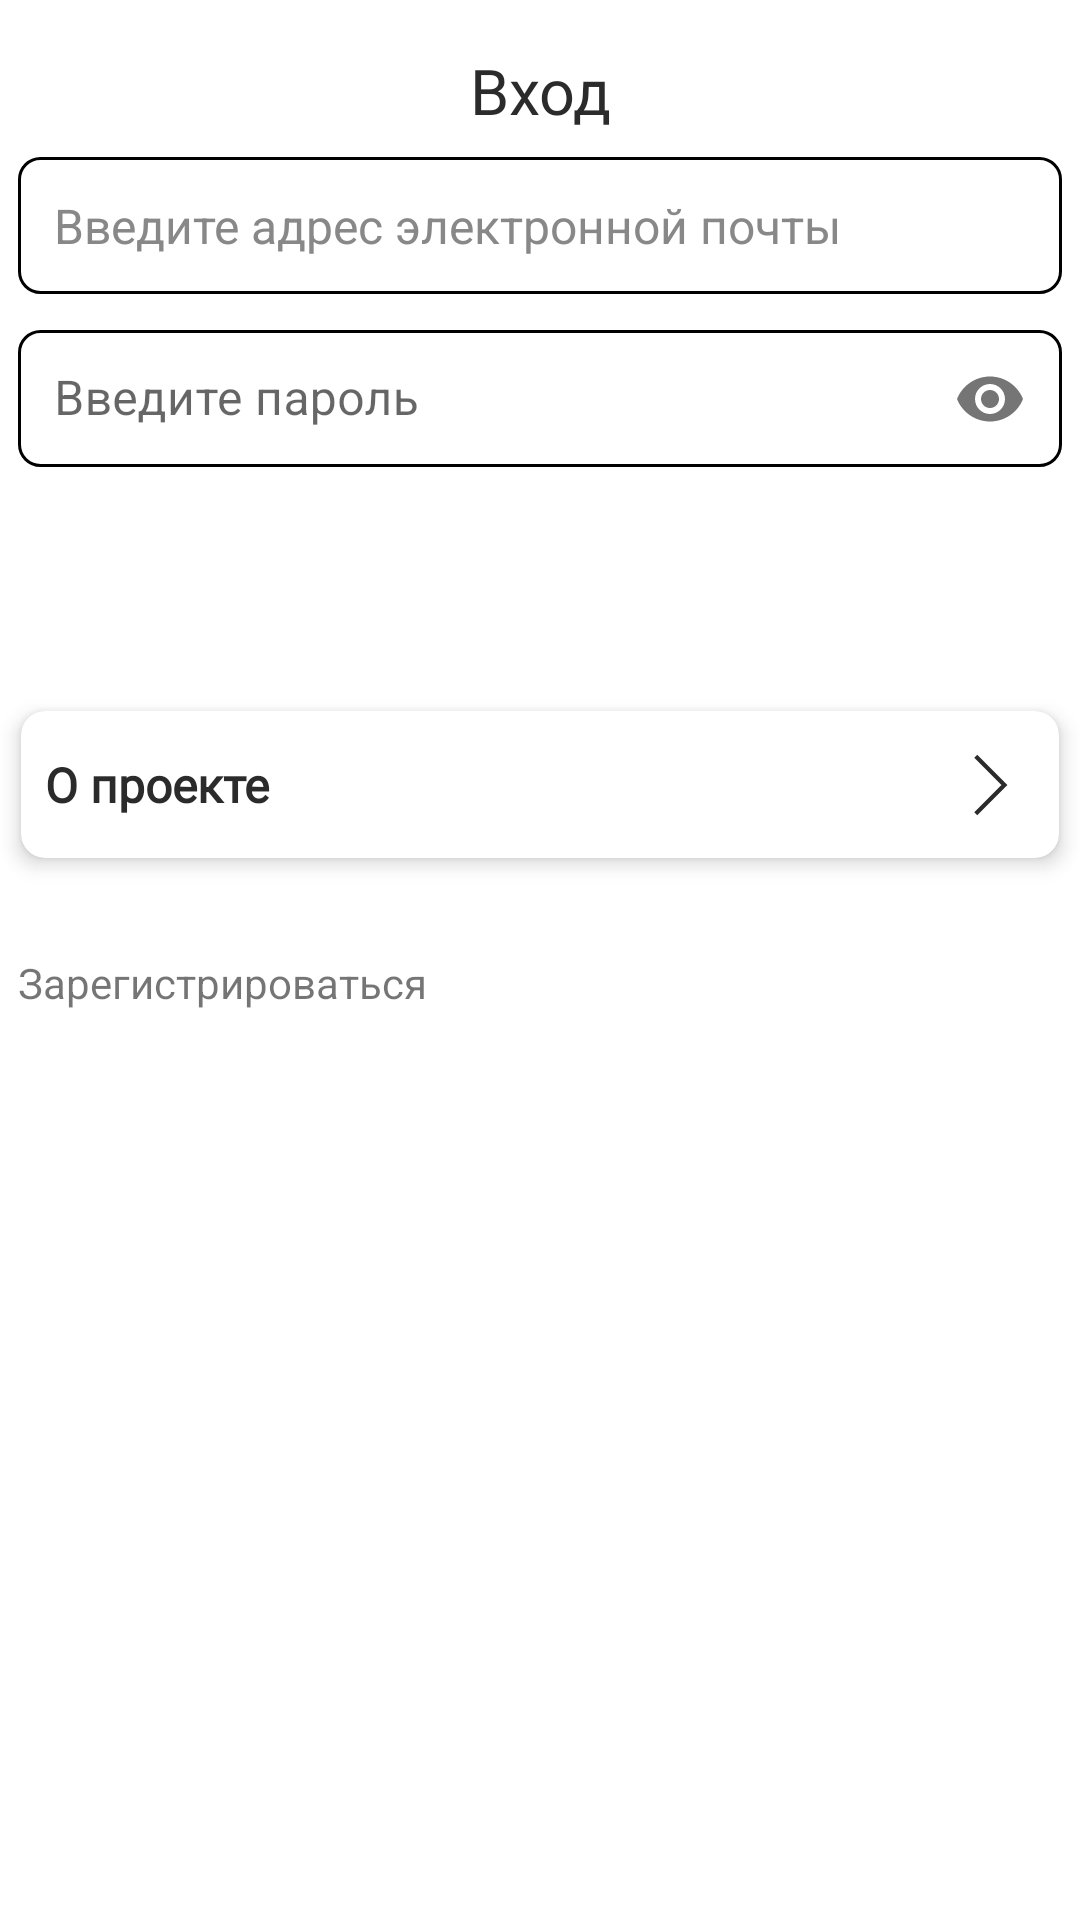

Named icons in this screenshot (1080×1920) and their bounding boxes, box(x1, y1, x2, y2):
arrow: box(974, 755, 1007, 815)
